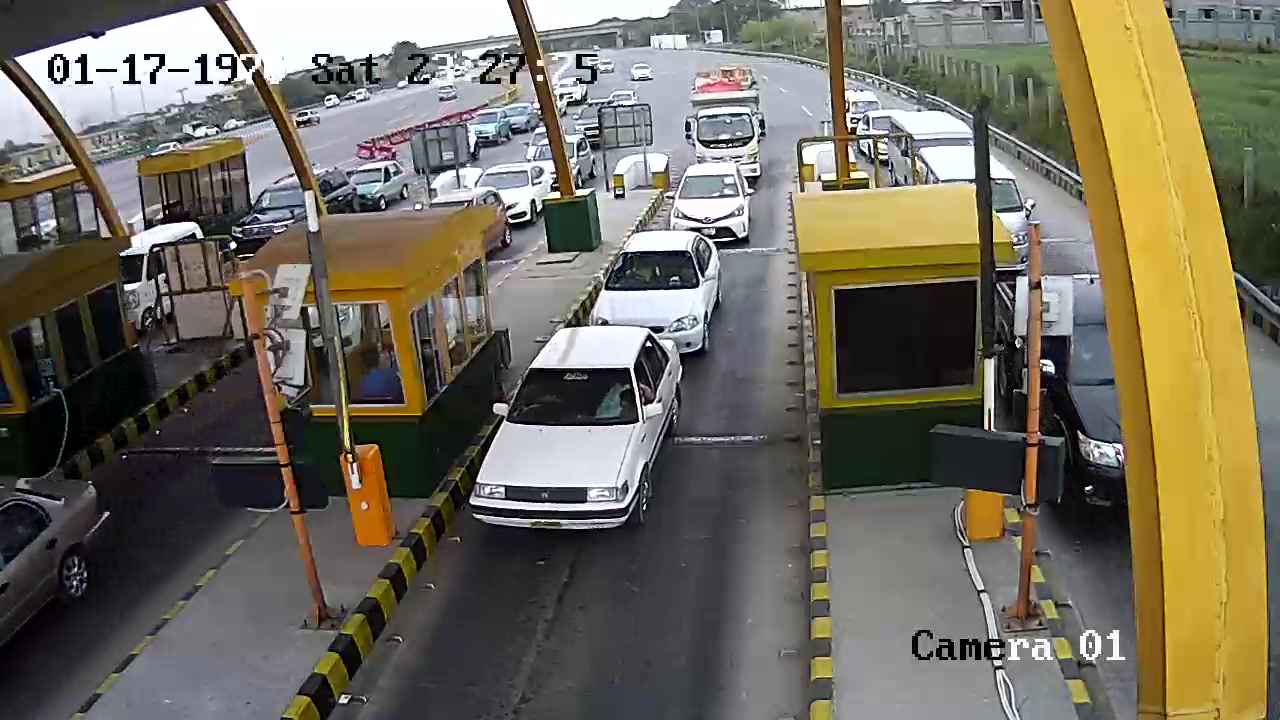F1: (474, 326, 696, 558), (581, 229, 728, 347)
